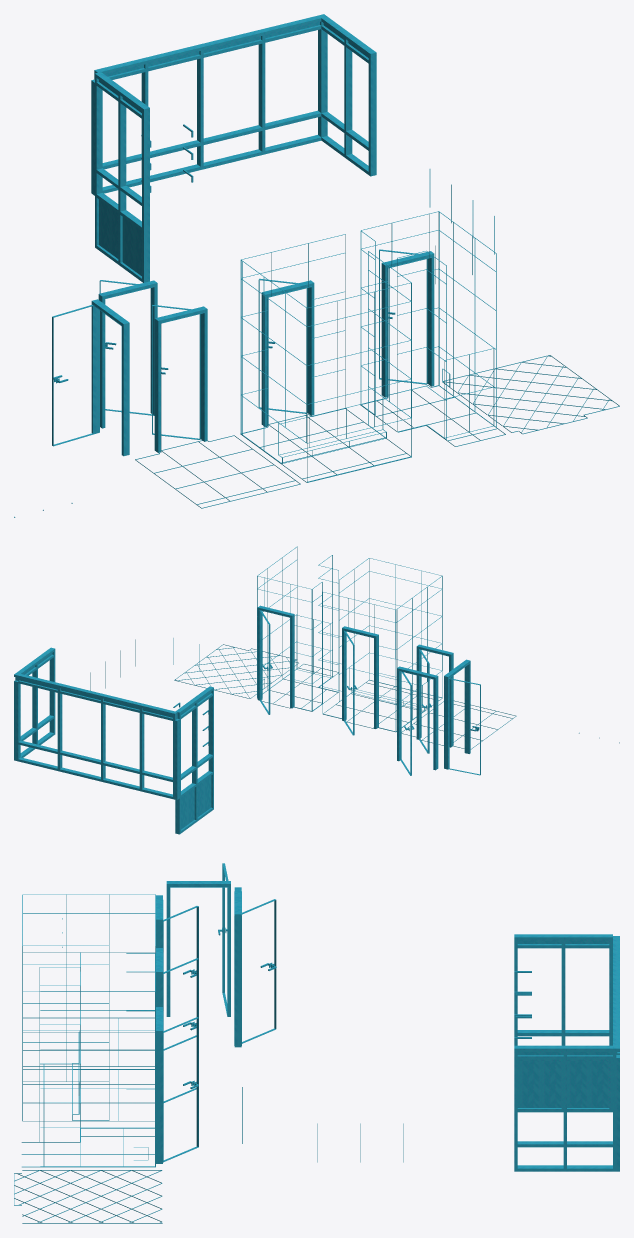
3 views of the same model, one above another, from view 1: azimuth 30°, elevation 25°; view 2: azimuth 150°, elevation 25°; view 3: azimuth 270°, elevation 25° (orthographic). The views are drawn at different scales.
Bounding box in the file's own units: 9.53 × 2.71 × 8.48.
1 material, 1 textured.
